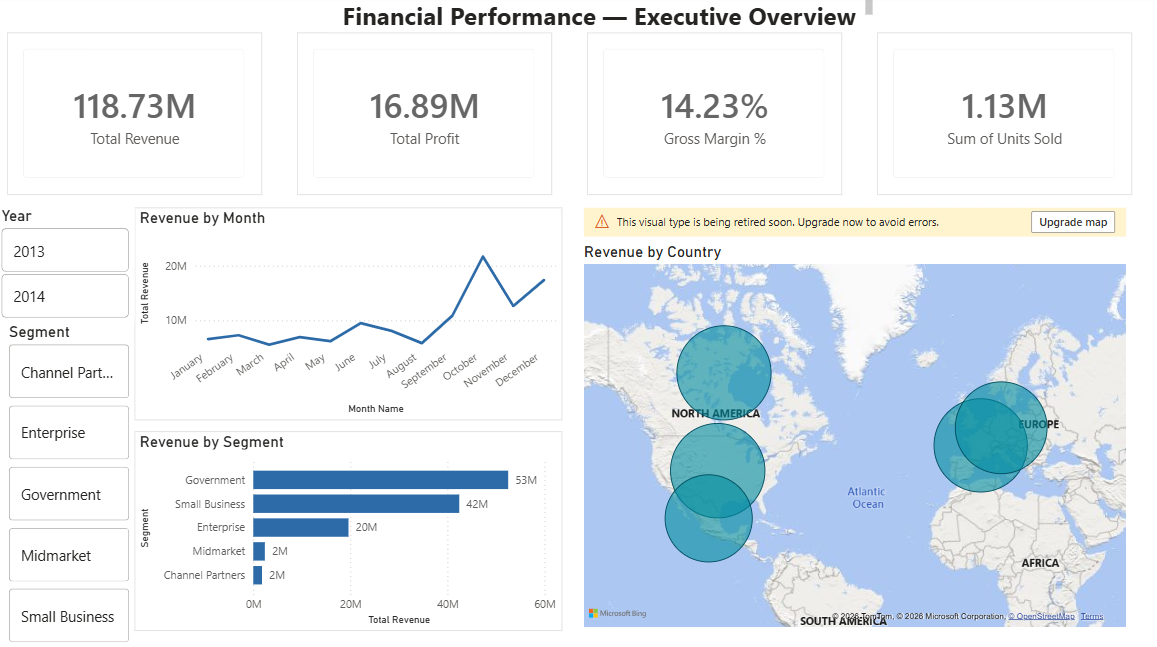

The page's visual inventory and layout, read from the dashboard file:
{"tool":"powerbi","page":{"name":"Executive Overview ","canvas":[1280,720],"ordinal":0},"visuals":[{"type":"cardVisual","fields":{"Data":["financials.Total Revenue"]},"box":[10.7,40.6,279.9,178.4],"z":0},{"type":"cardVisual","fields":{"Data":["financials.Total Profit"]},"box":[329.1,40.6,279.9,178.4],"z":1000},{"type":"cardVisual","fields":{"Data":["financials.Gross Margin %"]},"box":[647.4,40.6,279.9,178.4],"z":2000},{"type":"cardVisual","fields":{"Data":["Sum(financials.Units Sold)"]},"box":[965.8,40.6,279.9,178.4],"z":3000},{"type":"lineChart","title":"Revenue by Month","fields":{"Category":["financials.Month Name"],"Y":["financials.Total Revenue"]},"box":[150.9,233.3,469.3,233.3],"z":4000},{"type":"map","title":"Revenue by Country","fields":{"Category":["financials.Country"],"Size":["financials.Total Revenue"]},"box":[639.5,233.3,605.1,465.2],"z":5000},{"type":"clusteredBarChart","title":"Revenue by Segment","fields":{"Category":["financials.Segment"],"Y":["financials.Total Revenue"]},"box":[150.9,478.9,469.3,219.6],"z":6000},{"type":"textbox","box":[363.6,0,602.4,41.2],"z":7000},{"type":"advancedSlicerVisual","fields":{"Values":["financials.Year"]},"box":[0,231.9,150.9,127.6],"z":8000},{"type":"advancedSlicerVisual","fields":{"Values":["financials.Segment"]},"box":[8.2,359.5,142.7,360.9],"z":9000}]}

Visuals, with their boxes in screenshot pixels (x1, y1, x2, y2), scaled from the page's 1280x720 canvas onto the 1157x647 screenshot:
cardVisual - financials.Total Revenue: 10,36,263,197
cardVisual - financials.Total Profit: 297,36,550,197
cardVisual - financials.Gross Margin %: 585,36,838,197
cardVisual - Sum(financials.Units Sold): 873,36,1126,197
"Revenue by Month" lineChart: 136,210,561,419
"Revenue by Country" map: 578,210,1125,628
"Revenue by Segment" clusteredBarChart: 136,430,561,628
textbox: 329,0,873,37
advancedSlicerVisual - financials.Year: 0,208,136,323
advancedSlicerVisual - financials.Segment: 7,323,136,646
